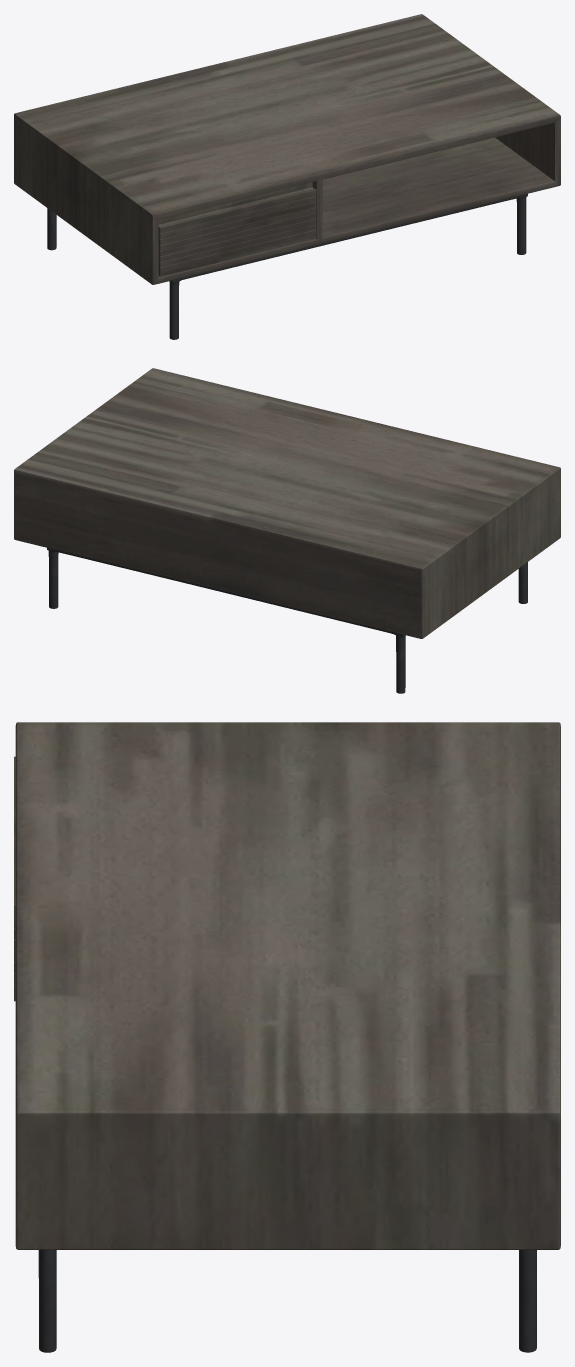
File: abo-B07HSKV2QT.glb
3 renders of one model, top to bottom at view 1: azimuth 30°, elevation 25°; view 2: azimuth 150°, elevation 25°; view 3: azimuth 270°, elevation 25°, orthographic. The views are drawn at different scales.
Size of the model in its own units: 1.09 by 0.347 by 0.643.
1 material, 1 textured.
